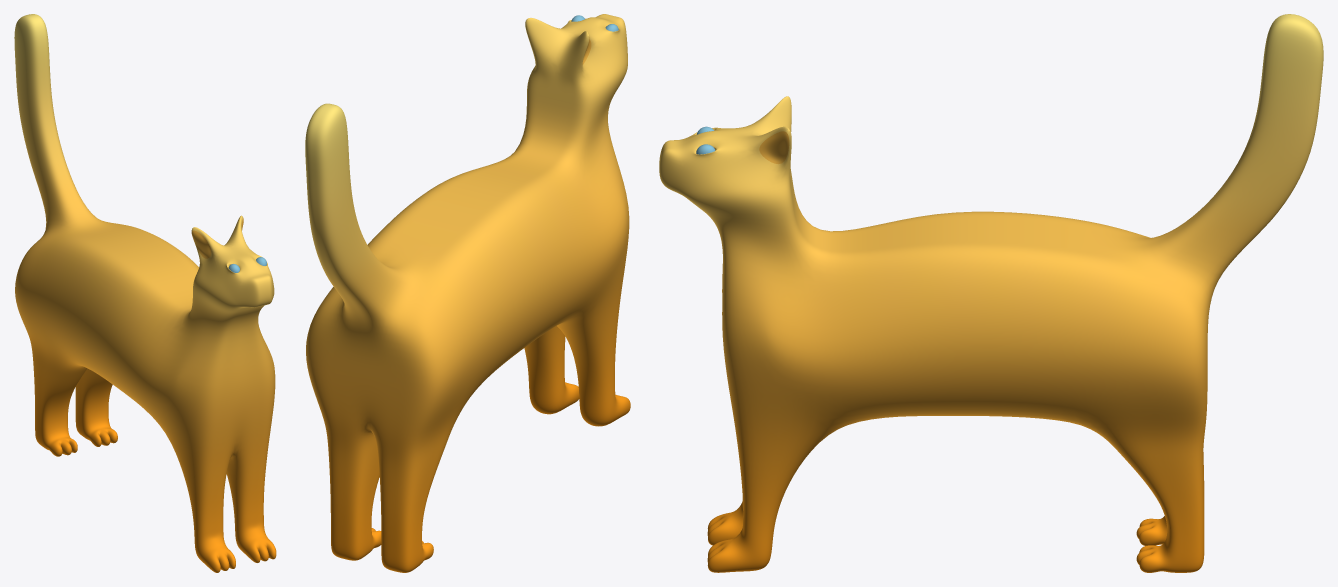
The model's file is Cat.fbx.
3 renders of one model, left to right at view 1: azimuth 30°, elevation 25°; view 2: azimuth 150°, elevation 25°; view 3: azimuth 270°, elevation 25°, orthographic. The views are drawn at different scales.
Parts seen in each view (by area): view 1: Куб, Куб.001; view 2: Куб; view 3: Куб.
Part boxes in pixels (bbox=[...]): Куб: bbox=[14, 14, 276, 572]; Куб.001: bbox=[191, 218, 243, 258]; Куб: bbox=[305, 14, 630, 572]; Куб: bbox=[659, 14, 1323, 572].
Bounding box in the file's own units: 281 × 935 × 1045.
